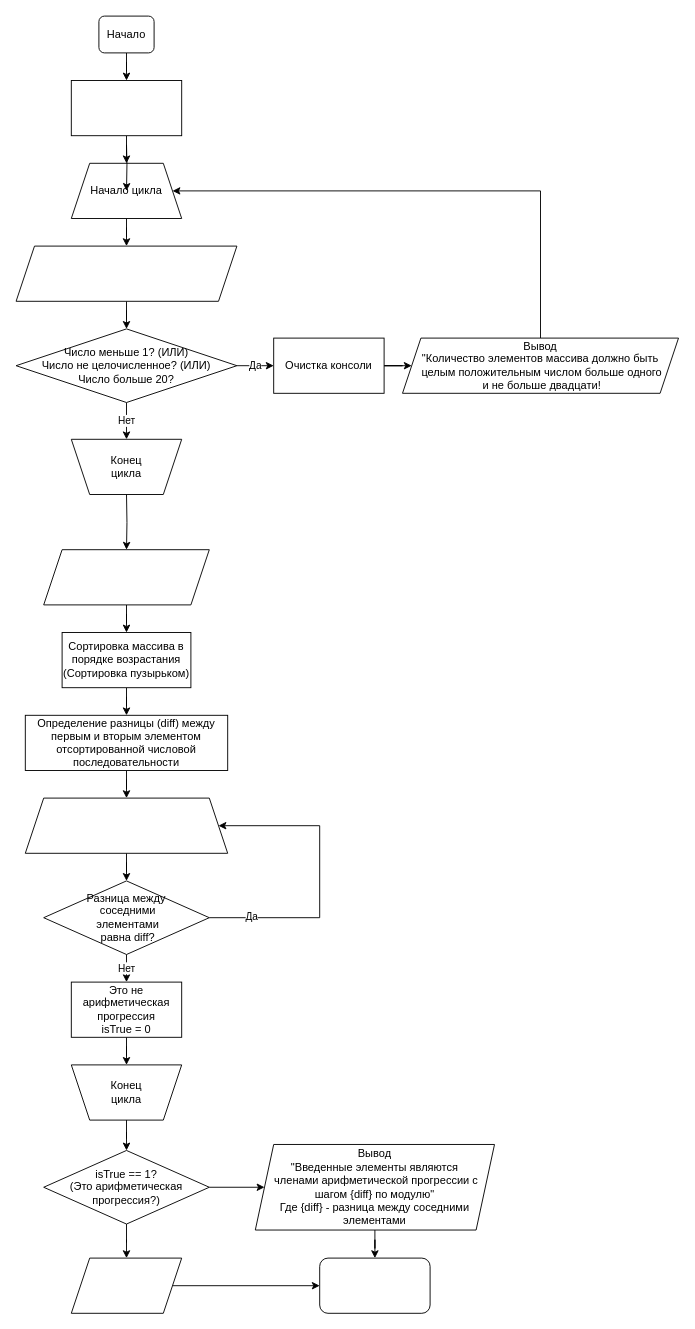
This 695x1329 diagram has some shape labels left out. Here are the shapes that lost their labels. From the top down, the box of each, then its label:
(70, 80, 182, 136): isTrue = 0
(15, 245, 237, 301): Ввод кол-во элементов числовой последовательности
(43, 549, 209, 605): Ввод элементов числовой последовательности
(24, 797, 228, 853): Начало цикла с N-1 иттераций, где N - кол-во элементов
(70, 1257, 182, 1313): Вывод "Это не арифметическая прогрессия"
(319, 1257, 430, 1313): Конец
